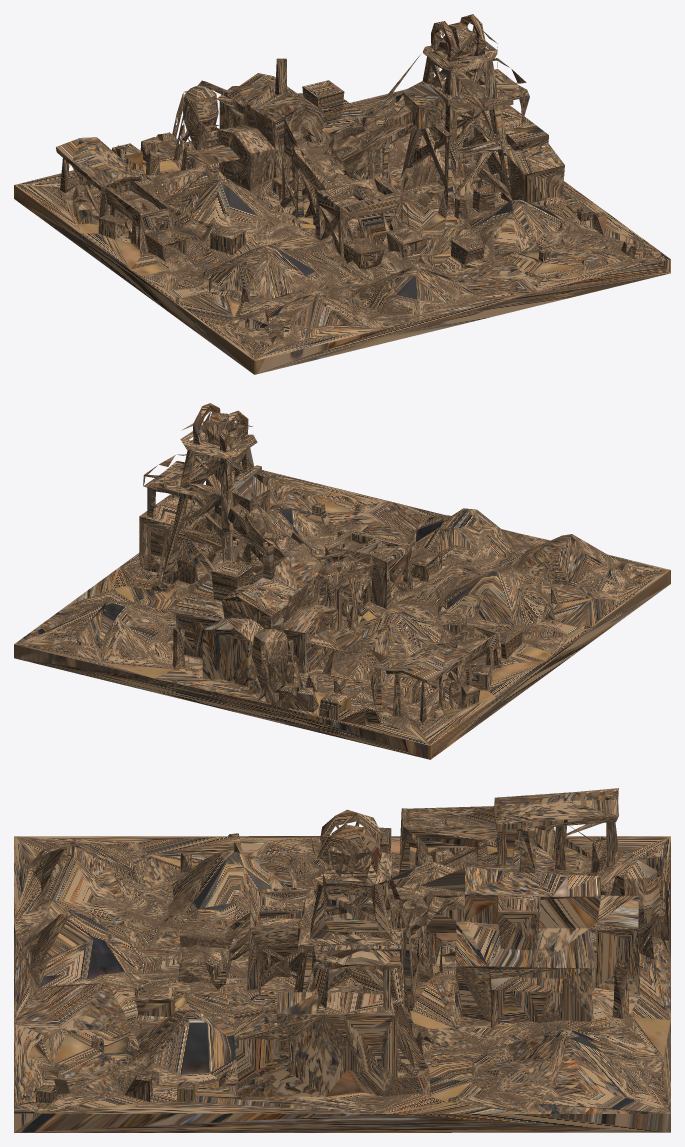
File: ore_mine.glb
3 renders of one model, top to bottom at view 1: azimuth 30°, elevation 25°; view 2: azimuth 150°, elevation 25°; view 3: azimuth 270°, elevation 25°, orthographic. The views are drawn at different scales.
Visible parts, largest first — view 1: normalize; view 2: normalize; view 3: normalize.
Boxes of the visible parts, x1=… form: normalize: x1=14, y1=14, x2=670, y2=374; normalize: x1=14, y1=403, x2=670, y2=759; normalize: x1=14, y1=788, x2=670, y2=1132.
Bounding box in the file's own units: 1 × 0.4259 × 0.9998.
Materials: 1 (1 with a texture image).
